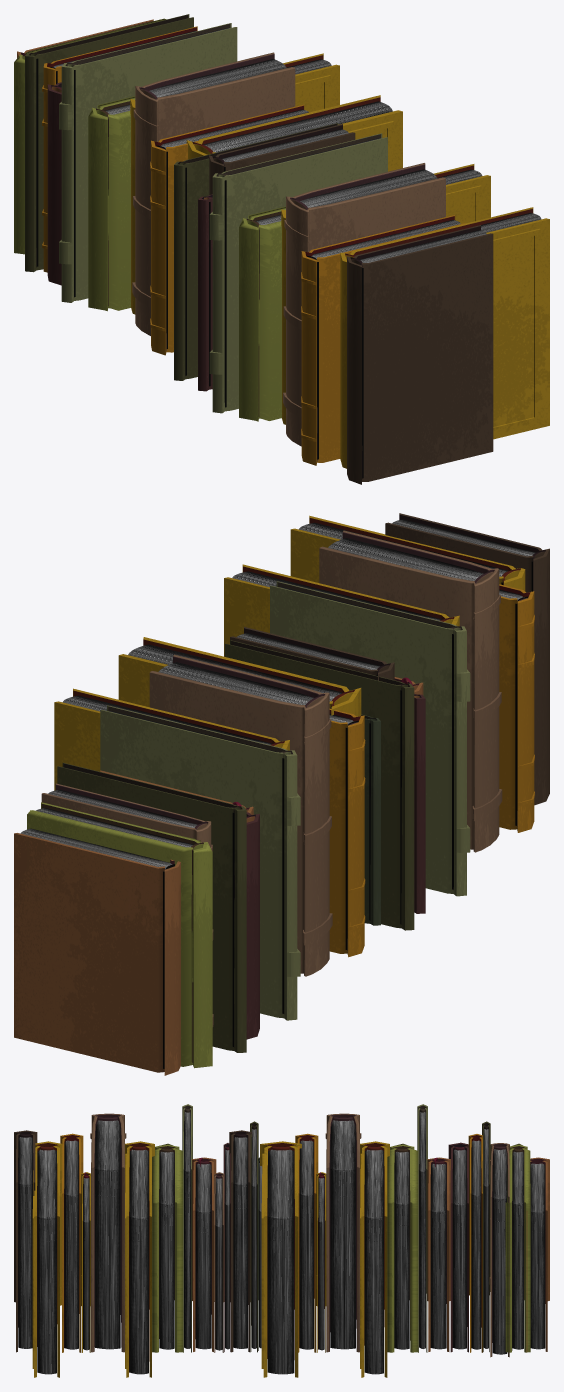
The model's file is Shelf12.fbx.
3 views of the same model, one above another, from view 1: azimuth 30°, elevation 25°; view 2: azimuth 150°, elevation 25°; view 3: azimuth 270°, elevation 25° (orthographic). The views are drawn at different scales.
Parts seen in each view (by area): view 1: pCube68 (×2), pCube14 (×2), pCube12 (×4), pCube71 (×2), pCube11 (×3), pCube15 (×3), pCube67 (×2), pCube69 (×2), pages13 (×2), pages11 (×2), pages14, pages8 (×2) (+2 smaller); view 2: pCube14 (×2), pCube71 (×3), pCube72, pCube67 (×2), pCube15 (×2), pCube12 (×4), pCube11, pCube68 (×2), pCube69 (×2), pages13 (×3), pages14 (×4), pCube66 (+6 smaller); view 3: pages14 (×4), pages13 (×3), pCube11 (×3), pCube12 (×4), pages17 (×3), pages15 (×3), pages11 (×3), pages8 (×2), pCube71 (×3), pCube72 (×3), pages9 (×2), pCube15 (×3) (+11 smaller).
Part boxes in pixels (left/top/right/bottom): pCube68 (×2): left=209, top=124, right=493, bottom=484; pCube14 (×2): left=59, top=23, right=387, bottom=413; pCube12 (×4): left=130, top=53, right=549, bottom=468; pCube71 (×2): left=132, top=52, right=445, bottom=446; pCube11 (×3): left=14, top=18, right=285, bottom=421; pCube15 (×3): left=42, top=26, right=465, bottom=465; pCube67 (×2): left=25, top=14, right=337, bottom=380; pCube69 (×2): left=47, top=82, right=212, bottom=391; pages13 (×2): left=149, top=59, right=437, bottom=207; pages11 (×2): left=156, top=109, right=460, bottom=459; pages14: left=203, top=101, right=392, bottom=152; pages8 (×2): left=221, top=129, right=486, bottom=478; pCube14 (×2): left=100, top=581, right=470, bottom=1020; pCube71 (×3): left=41, top=530, right=502, bottom=1026; pCube72: left=14, top=833, right=180, bottom=1075; pCube67 (×2): left=57, top=640, right=414, bottom=1052; pCube15 (×2): left=329, top=584, right=534, bottom=957; pCube12 (×4): left=54, top=515, right=525, bottom=790; pCube11: left=27, top=802, right=212, bottom=1068; pCube68 (×2): left=230, top=513, right=549, bottom=805; pCube69 (×2): left=246, top=694, right=425, bottom=1039; pages13 (×3): left=48, top=538, right=483, bottom=827; pages14 (×4): left=63, top=522, right=508, bottom=744; pCube66: left=361, top=714, right=380, bottom=925; pages14 (×4): left=37, top=1149, right=383, bottom=1374; pages13 (×3): left=95, top=1120, right=507, bottom=1354; pCube11 (×3): left=152, top=1143, right=530, bottom=1352; pCube12 (×4): left=32, top=1141, right=389, bottom=1377; pages17 (×3): left=195, top=1163, right=545, bottom=1349; pages15 (×3): left=159, top=1151, right=523, bottom=1349; pages11 (×3): left=64, top=1140, right=481, bottom=1349; pages8 (×2): left=18, top=1137, right=247, bottom=1348; pCube71 (×3): left=90, top=1113, right=509, bottom=1357; pCube72 (×3): left=192, top=1157, right=549, bottom=1351; pages9 (×2): left=225, top=1149, right=466, bottom=1349; pCube15 (×3): left=60, top=1133, right=482, bottom=1352.
Bounding box in the file's own units: 1.09 × 1.07 × 2.68.
